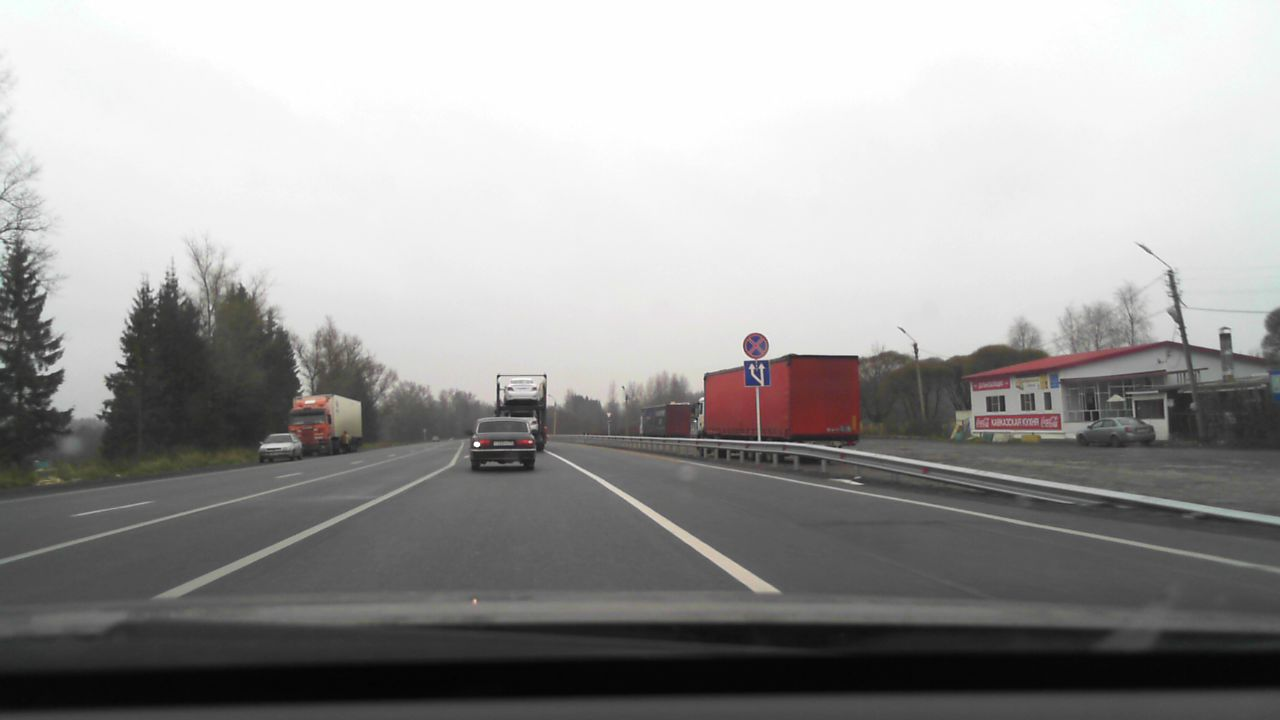No Parking: (742, 332, 769, 359)
